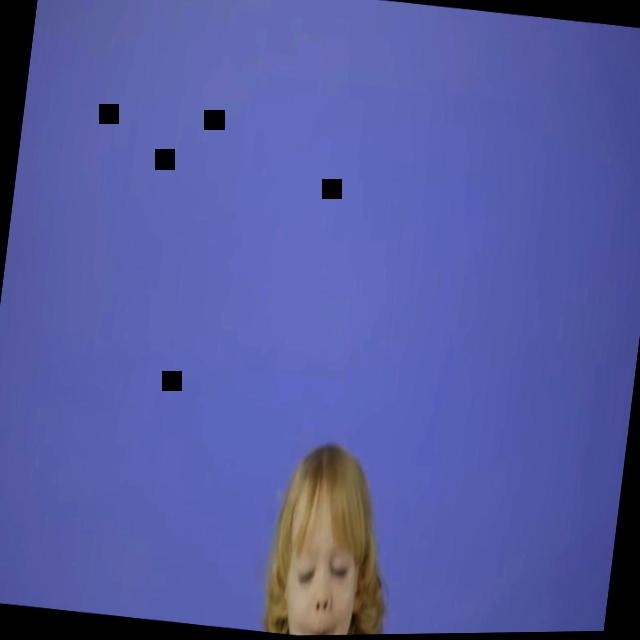NO-Mask: (280, 510, 365, 637)
